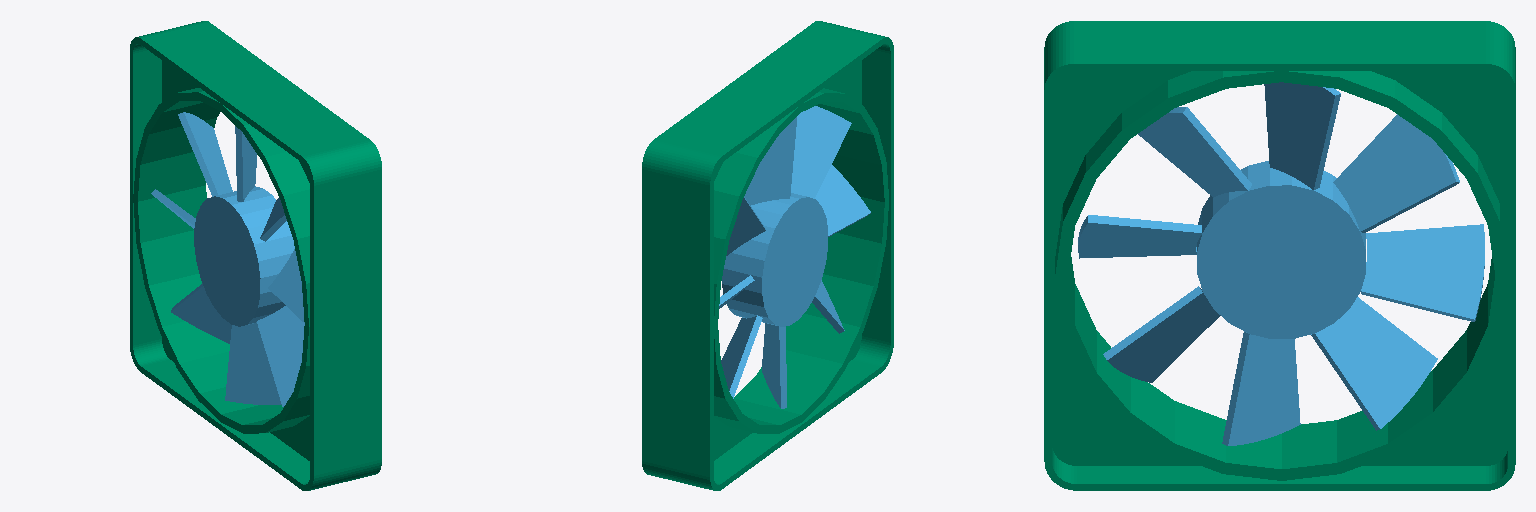
The robot description file, URDF, robot "partnet_8e9dc192c492061ae82b1dc57ebca27":
<?xml version="1.0" ?>
<robot name="partnet_8e9dc192c492061ae82b1dc57ebca27">
	<link name="base"/>
	<link name="link_0">
		<visual name="fan-1">
			<origin xyz="0.013954879391141015 -0.023731548715065765 0"/>
			<geometry>
				<mesh filename="textured_objs/original-10.obj"/>
			</geometry>
		</visual>
		<visual name="fan-1">
			<origin xyz="0.013954879391141015 -0.023731548715065765 0"/>
			<geometry>
				<mesh filename="textured_objs/original-2.obj"/>
			</geometry>
		</visual>
		<visual name="fan-1">
			<origin xyz="0.013954879391141015 -0.023731548715065765 0"/>
			<geometry>
				<mesh filename="textured_objs/original-3.obj"/>
			</geometry>
		</visual>
		<visual name="fan-1">
			<origin xyz="0.013954879391141015 -0.023731548715065765 0"/>
			<geometry>
				<mesh filename="textured_objs/original-4.obj"/>
			</geometry>
		</visual>
		<visual name="fan-1">
			<origin xyz="0.013954879391141015 -0.023731548715065765 0"/>
			<geometry>
				<mesh filename="textured_objs/original-5.obj"/>
			</geometry>
		</visual>
		<visual name="fan-1">
			<origin xyz="0.013954879391141015 -0.023731548715065765 0"/>
			<geometry>
				<mesh filename="textured_objs/original-6.obj"/>
			</geometry>
		</visual>
		<visual name="fan-1">
			<origin xyz="0.013954879391141015 -0.023731548715065765 0"/>
			<geometry>
				<mesh filename="textured_objs/original-7.obj"/>
			</geometry>
		</visual>
		<visual name="fan-1">
			<origin xyz="0.013954879391141015 -0.023731548715065765 0"/>
			<geometry>
				<mesh filename="textured_objs/original-8.obj"/>
			</geometry>
		</visual>
		<visual name="fan-1">
			<origin xyz="0.013954879391141015 -0.023731548715065765 0"/>
			<geometry>
				<mesh filename="textured_objs/original-1.obj"/>
			</geometry>
		</visual>
		<visual name="fan-1">
			<origin xyz="0.013954879391141015 -0.023731548715065765 0"/>
			<geometry>
				<mesh filename="textured_objs/original-11.obj"/>
			</geometry>
		</visual>
		<collision>
			<origin xyz="0.013954879391141015 -0.023731548715065765 0"/>
			<geometry>
				<mesh filename="textured_objs/original-10.obj"/>
			</geometry>
		</collision>
		<collision>
			<origin xyz="0.013954879391141015 -0.023731548715065765 0"/>
			<geometry>
				<mesh filename="textured_objs/original-2.obj"/>
			</geometry>
		</collision>
		<collision>
			<origin xyz="0.013954879391141015 -0.023731548715065765 0"/>
			<geometry>
				<mesh filename="textured_objs/original-3.obj"/>
			</geometry>
		</collision>
		<collision>
			<origin xyz="0.013954879391141015 -0.023731548715065765 0"/>
			<geometry>
				<mesh filename="textured_objs/original-4.obj"/>
			</geometry>
		</collision>
		<collision>
			<origin xyz="0.013954879391141015 -0.023731548715065765 0"/>
			<geometry>
				<mesh filename="textured_objs/original-5.obj"/>
			</geometry>
		</collision>
		<collision>
			<origin xyz="0.013954879391141015 -0.023731548715065765 0"/>
			<geometry>
				<mesh filename="textured_objs/original-6.obj"/>
			</geometry>
		</collision>
		<collision>
			<origin xyz="0.013954879391141015 -0.023731548715065765 0"/>
			<geometry>
				<mesh filename="textured_objs/original-7.obj"/>
			</geometry>
		</collision>
		<collision>
			<origin xyz="0.013954879391141015 -0.023731548715065765 0"/>
			<geometry>
				<mesh filename="textured_objs/original-8.obj"/>
			</geometry>
		</collision>
		<collision>
			<origin xyz="0.013954879391141015 -0.023731548715065765 0"/>
			<geometry>
				<mesh filename="textured_objs/original-1.obj"/>
			</geometry>
		</collision>
		<collision>
			<origin xyz="0.013954879391141015 -0.023731548715065765 0"/>
			<geometry>
				<mesh filename="textured_objs/original-11.obj"/>
			</geometry>
		</collision>
	</link>
	<joint name="joint_0" type="continuous">
		<origin xyz="-0.013954879391141015 0.023731548715065765 0"/>
		<axis xyz="0 0 1"/>
		<child link="link_0"/>
		<parent link="link_1"/>
	</joint>
	<link name="link_1">
		<visual name="base_body-2">
			<origin xyz="0 0 0"/>
			<geometry>
				<mesh filename="textured_objs/original-9.obj"/>
			</geometry>
		</visual>
		<collision>
			<origin xyz="0 0 0"/>
			<geometry>
				<mesh filename="textured_objs/original-9.obj"/>
			</geometry>
		</collision>
	</link>
	<joint name="joint_1" type="fixed">
		<origin rpy="1.570796326794897 0 -1.570796326794897" xyz="0 0 0"/>
		<child link="link_1"/>
		<parent link="base"/>
	</joint>
</robot>

--- What the picture shows (computed from the rendered views, not written in the file) ---
3 views of the same robot in one strip: view 1: azimuth 30°, elevation 25°; view 2: azimuth 150°, elevation 25°; view 3: azimuth 270°, elevation 25° (orthographic).
Model partnet_8e9dc192c492061ae82b1dc57ebca27 with 3 links and 2 joints (1 continuous, 1 fixed), rooted at base, posed every joint at zero.
Visible links, largest first — view 1: link_1, link_0; view 2: link_1, link_0; view 3: link_1, link_0.
Boxes of the visible links, left/top/right/bottom form: link_1: left=130, top=21, right=381, bottom=490; link_0: left=151, top=112, right=304, bottom=406; link_1: left=642, top=21, right=893, bottom=490; link_0: left=719, top=106, right=870, bottom=408; link_1: left=1044, top=21, right=1515, bottom=490; link_0: left=1078, top=82, right=1484, bottom=445.
Size in the robot's own frame: 0.3113 by 1.45 by 1.45 metres.
Meshes: 11 distinct files referenced, 11 mesh visuals loaded (11 OBJ).